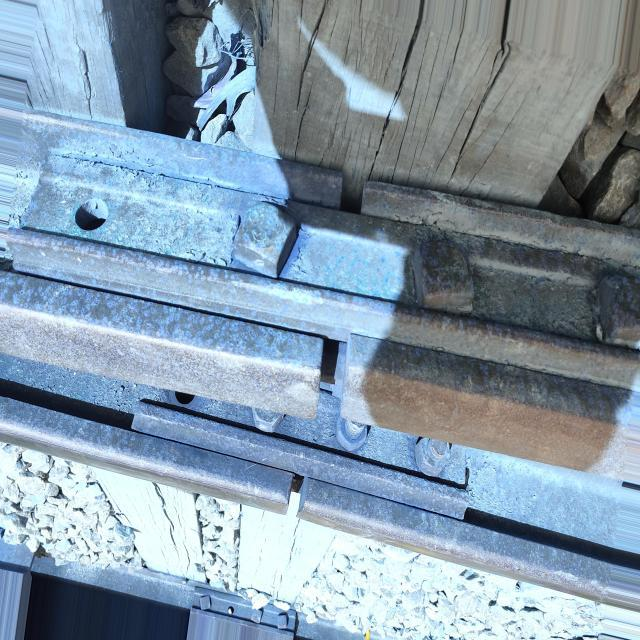Defective Joint: (8, 156, 640, 394)
